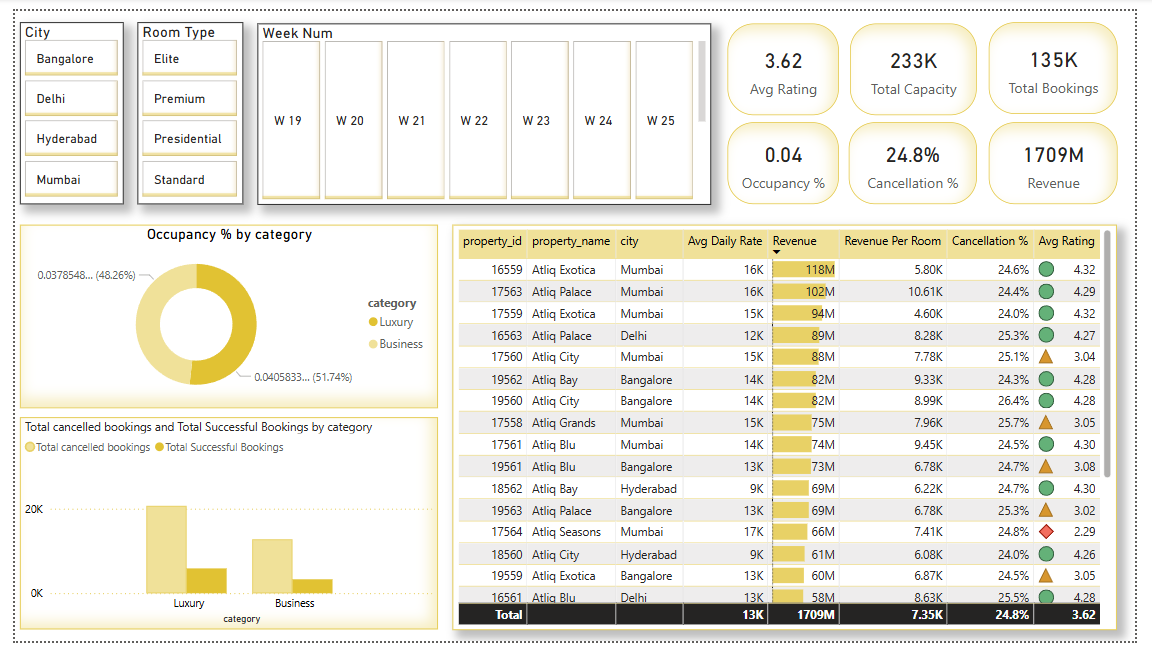

The dashboard page shown, as its layout file describes it:
{"tool":"powerbi","page":{"name":"Page 2","canvas":[1280,720],"ordinal":1},"visuals":[{"type":"advancedSlicerVisual","title":"City","fields":{"Values":["dim_hotels.city"]},"box":[5.7,13.6,118.7,208],"z":0},{"type":"advancedSlicerVisual","title":"Room Type","fields":{"Values":["dim_rooms.room_class"]},"box":[140.2,13.6,121,208],"z":1000},{"type":"advancedSlicerVisual","title":"Week Num","fields":{"Values":["dim_date.week no"]},"box":[277.5,13.8,518.8,207.5],"z":2000},{"type":"tableEx","fields":{"Values":["booking.property_id","dim_hotels.property_name","dim_hotels.city","booking.Avg DailyRate","booking.Revenue","booking.Revenue PerRoom","booking.Cancellation %","booking.Avg Rating"]},"box":[500.6,243.8,758.9,463.1],"z":3000},{"type":"card","fields":{"Values":["booking.Total Capacity"]},"box":[953.8,13.8,145,105],"z":4000},{"type":"card","fields":{"Values":["booking.Avg Rating"]},"box":[813.8,13.8,127.5,105],"z":5000},{"type":"card","fields":{"Values":["booking.Total Bookings"]},"box":[1112.5,12.5,147.5,105],"z":6000},{"type":"card","fields":{"Values":["booking.Occupancy %"]},"box":[813.8,127.5,127.5,93.8],"z":7000},{"type":"card","fields":{"Values":["booking.Revenue"]},"box":[1112.5,127.5,147.5,93.8],"z":8000},{"type":"card","fields":{"Values":["booking.Cancellation %"]},"box":[952.5,127.5,146.2,93.8],"z":9000},{"type":"donutChart","fields":{"Category":["dim_hotels.category"],"Y":["booking.Occupancy %"]},"box":[5.8,243.8,477.6,209.2],"z":10000},{"type":"clusteredColumnChart","fields":{"Category":["dim_hotels.category"],"Y":["booking.Total cancelled bookings","booking.Total Successful Bookings"]},"box":[5.8,464.6,477.6,242.4],"z":11000}]}

Visuals, with their boxes in screenshot pixels (x1, y1, x2, y2), scaled from the page's 1280x720 canvas onto the 1152x650 screenshot:
"City" advancedSlicerVisual: bbox=[5, 12, 112, 200]
"Room Type" advancedSlicerVisual: bbox=[126, 12, 235, 200]
"Week Num" advancedSlicerVisual: bbox=[250, 12, 717, 200]
tableEx - booking.property_id x dim_hotels.property_name: bbox=[451, 220, 1134, 638]
card - booking.Total Capacity: bbox=[858, 12, 989, 107]
card - booking.Avg Rating: bbox=[732, 12, 847, 107]
card - booking.Total Bookings: bbox=[1001, 11, 1134, 106]
card - booking.Occupancy %: bbox=[732, 115, 847, 200]
card - booking.Revenue: bbox=[1001, 115, 1134, 200]
card - booking.Cancellation %: bbox=[857, 115, 989, 200]
donutChart - dim_hotels.category x booking.Occupancy %: bbox=[5, 220, 435, 409]
clusteredColumnChart - dim_hotels.category x booking.Total cancelled bookings: bbox=[5, 419, 435, 638]
